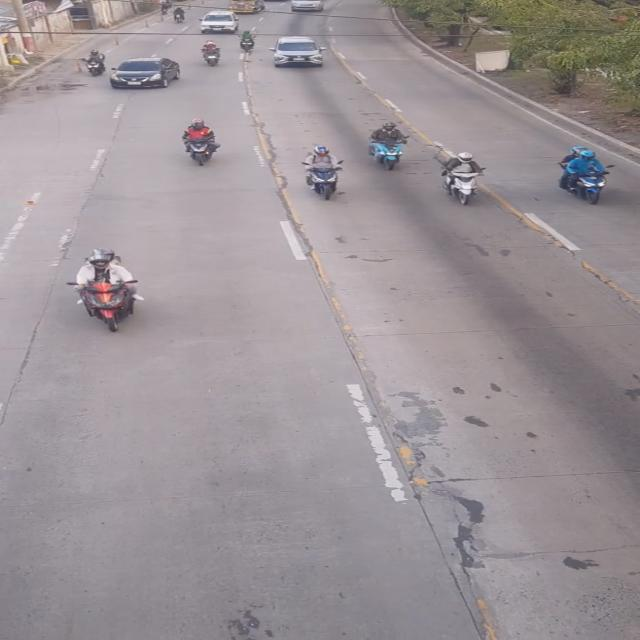car: (107, 54, 181, 92), (264, 32, 332, 70)
motorbike: (73, 248, 136, 334), (559, 143, 609, 205), (364, 121, 418, 172), (436, 152, 490, 202), (173, 117, 224, 167), (303, 147, 342, 203), (196, 39, 230, 68), (86, 42, 105, 76)
